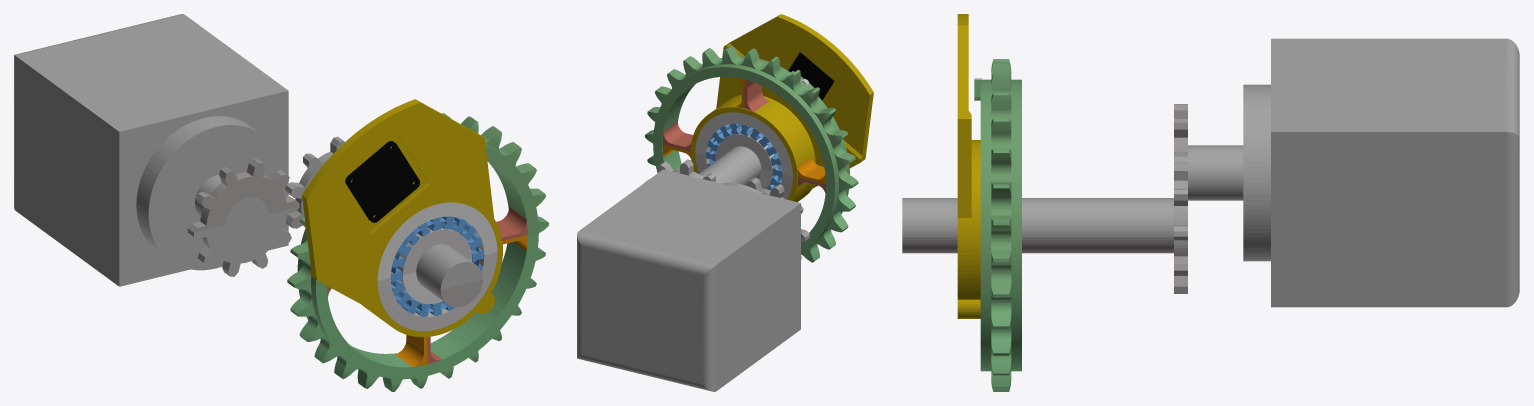
Rendered from mrii-interface-detail.glb.
3 views of the same model, side by side, from view 1: azimuth 30°, elevation 25°; view 2: azimuth 150°, elevation 25°; view 3: azimuth 270°, elevation 25° (orthographic). The views are drawn at different scales.
Visible parts, largest first — view 1: empty_2; view 2: empty_2; view 3: empty_2.
Part boxes in pixels (x1,y1,x2,y2): empty_2: (14,14,548,391); empty_2: (577,14,873,391); empty_2: (902,14,1519,391).
Size of the model in its own units: 145 by 136 by 223.
